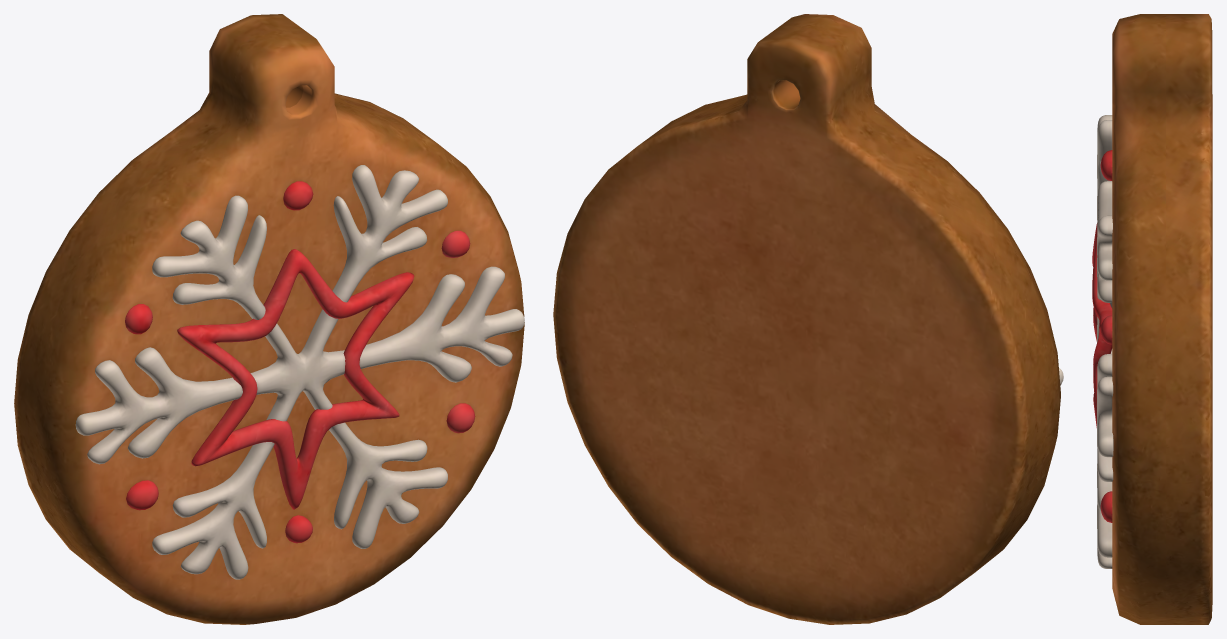
File: ginger-snowflake-1.glb
3 views of the same model, side by side, from view 1: azimuth 30°, elevation 25°; view 2: azimuth 150°, elevation 25°; view 3: azimuth 270°, elevation 25° (orthographic).
Parts seen in each view (by area): view 1: Gingerbread snowflake_1; view 2: Gingerbread snowflake_1; view 3: Gingerbread snowflake_1.
Boxes of the visible parts, bbox=[...] form: Gingerbread snowflake_1: bbox=[14, 14, 524, 624]; Gingerbread snowflake_1: bbox=[553, 14, 1063, 624]; Gingerbread snowflake_1: bbox=[1092, 14, 1212, 624].
Size of the model in its own units: 0.0652 by 0.076 by 0.0144.
Materials: 1 (1 with a texture image).
